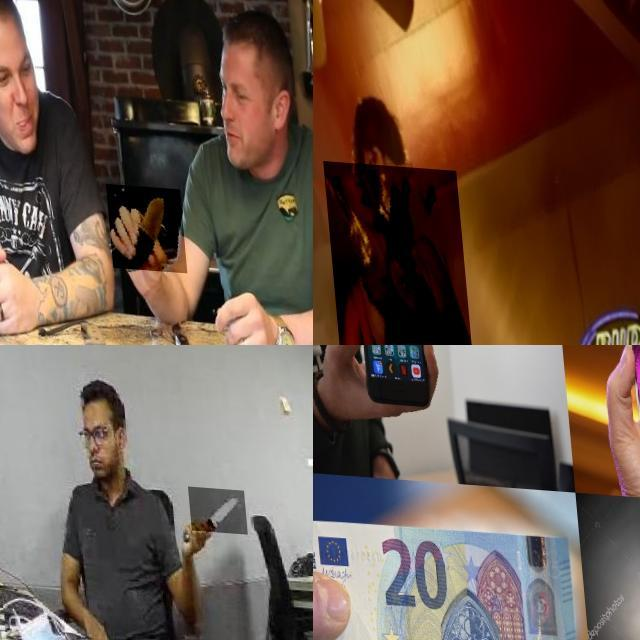-: (100, 179, 180, 268), (180, 482, 240, 528)
gun-knife-thesis - v11 Yolov5 augmented: (318, 158, 468, 345)
